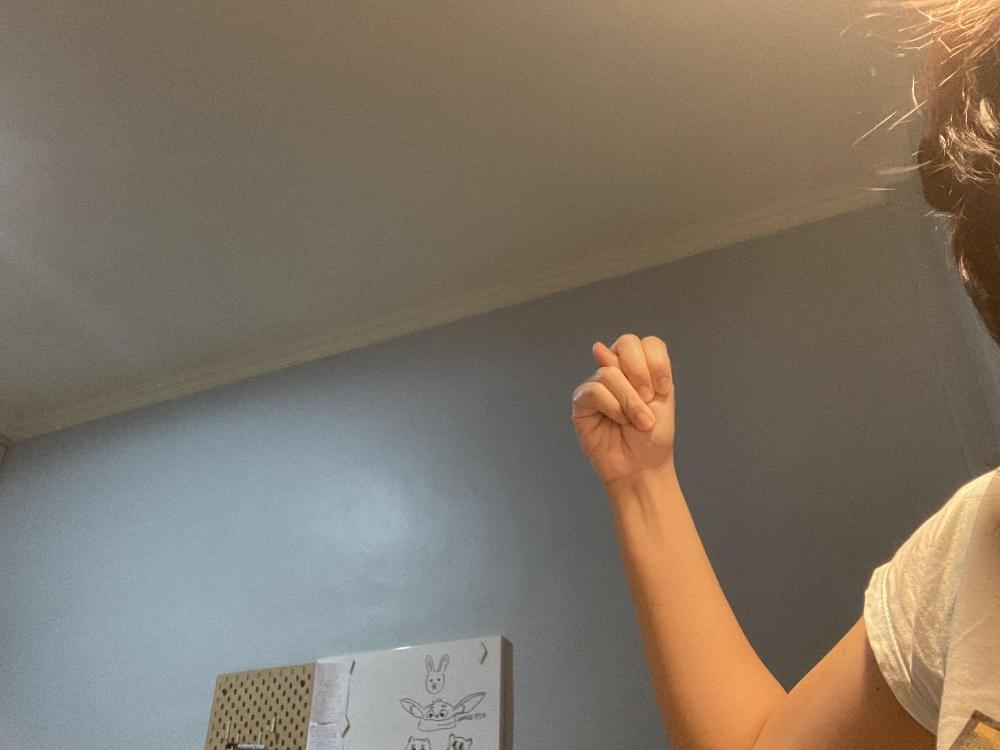n: (571, 332, 674, 481)
